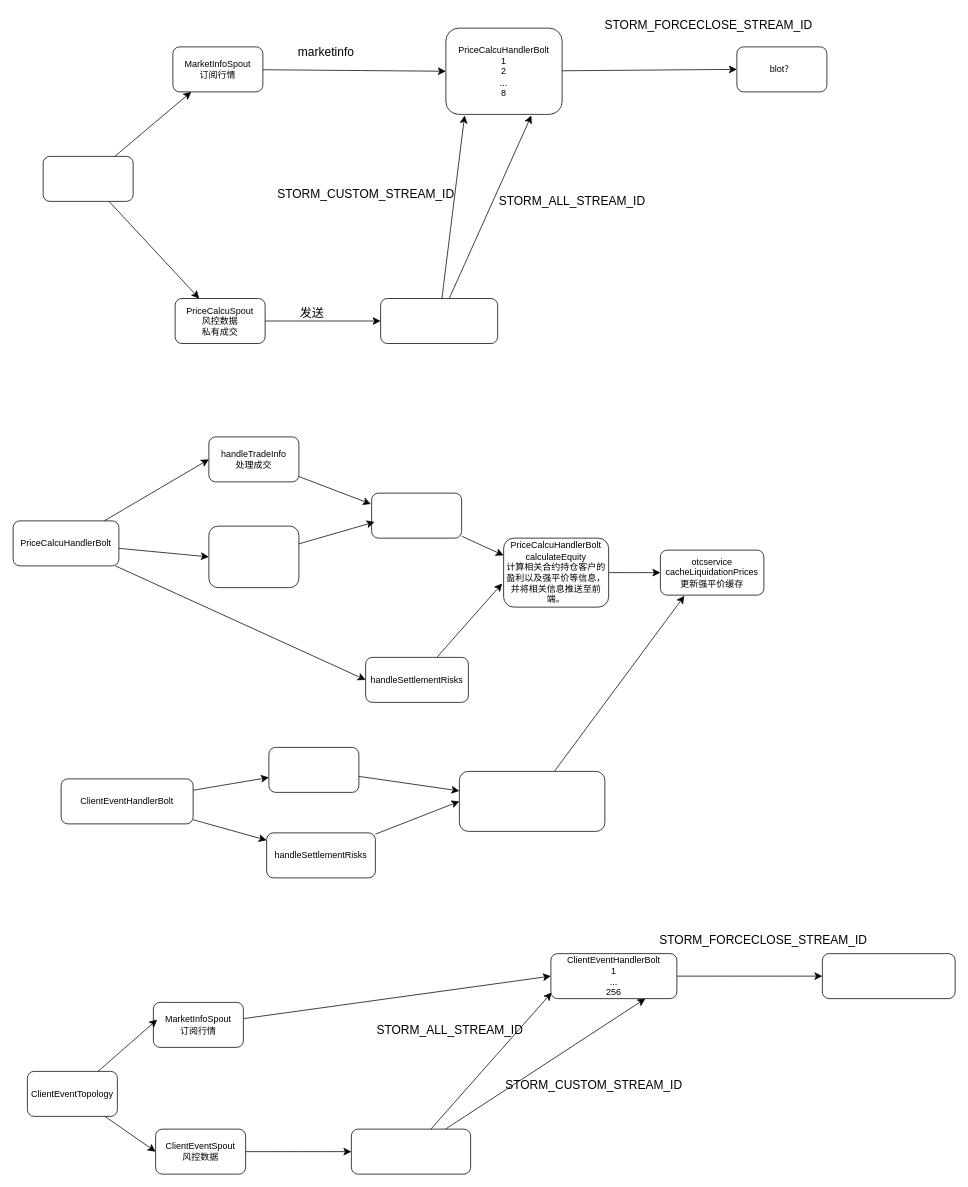
Some shapes in this 968 by 1187 pixel diagram are drawn without their labels. Here are the shapes that lost their labels. From the top down, the centre of each, then its label:
the point at 87,178: PriceCalcuTopology
the point at 439,321: PriceCalcuPreprocessBolt
the point at 416,515: calculateEquityPrice
the point at 253,556: handleClientPosition 对于逐仓仓位，涉及到保证金的动态调整，需要及时更新强平价
the point at 313,769: handleTimeSync
the point at 532,801: ClientEventHandlerBolt calculateEquity 计算相关合约持仓客户的盈利以及强平价等信息，并将相关信息推送至前端
the point at 888,976: ForceCloseHandlerBolt 强平逻辑
the point at 411,1151: ClientEventPreprocessBolt
